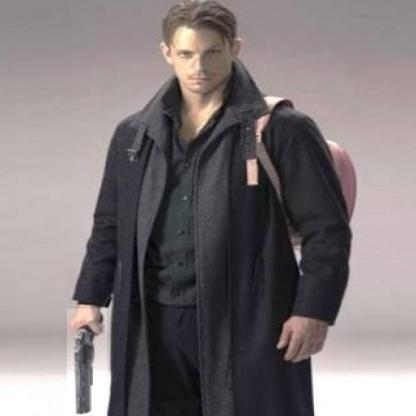handgun: (67, 309, 107, 416)
